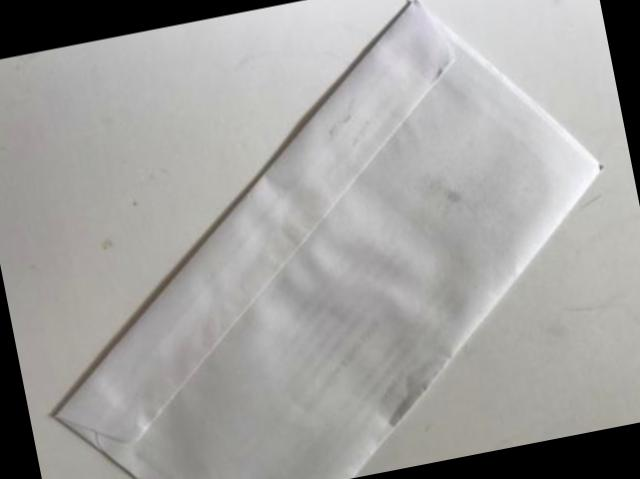cardboard paper: (54, 0, 599, 479)
